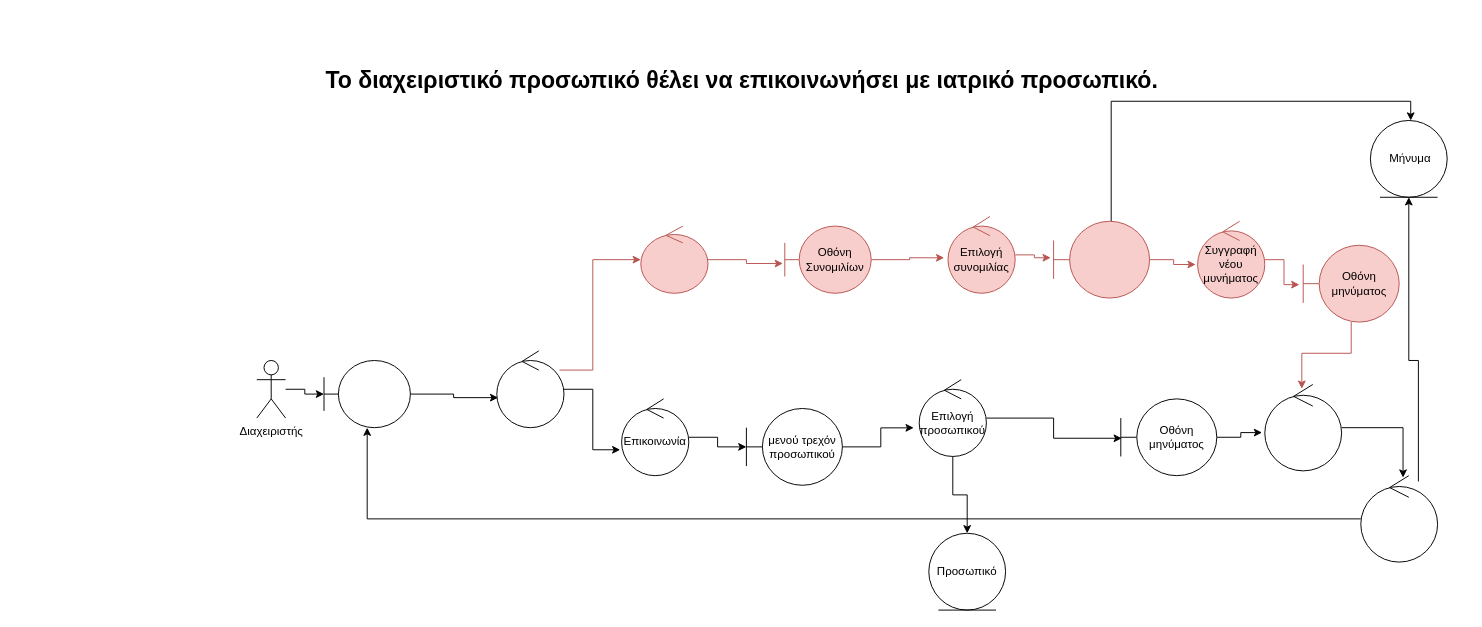
Image size: 1482x627. Some labels were removed from this diagram. The box of each missing label's shape, as (x1, y1, x2, y2) in pixels:
Αποστολή: (1360, 475, 1438, 562)
Αρχική οθόνη: (323, 360, 410, 428)
Εμφάνηση ιστορικού μηνυμάτων: (1053, 220, 1150, 298)
Επιλογή: (496, 350, 564, 428)
Πληκτρολόγηση: (1264, 384, 1342, 471)
Συνομιλία: (640, 225, 708, 293)
